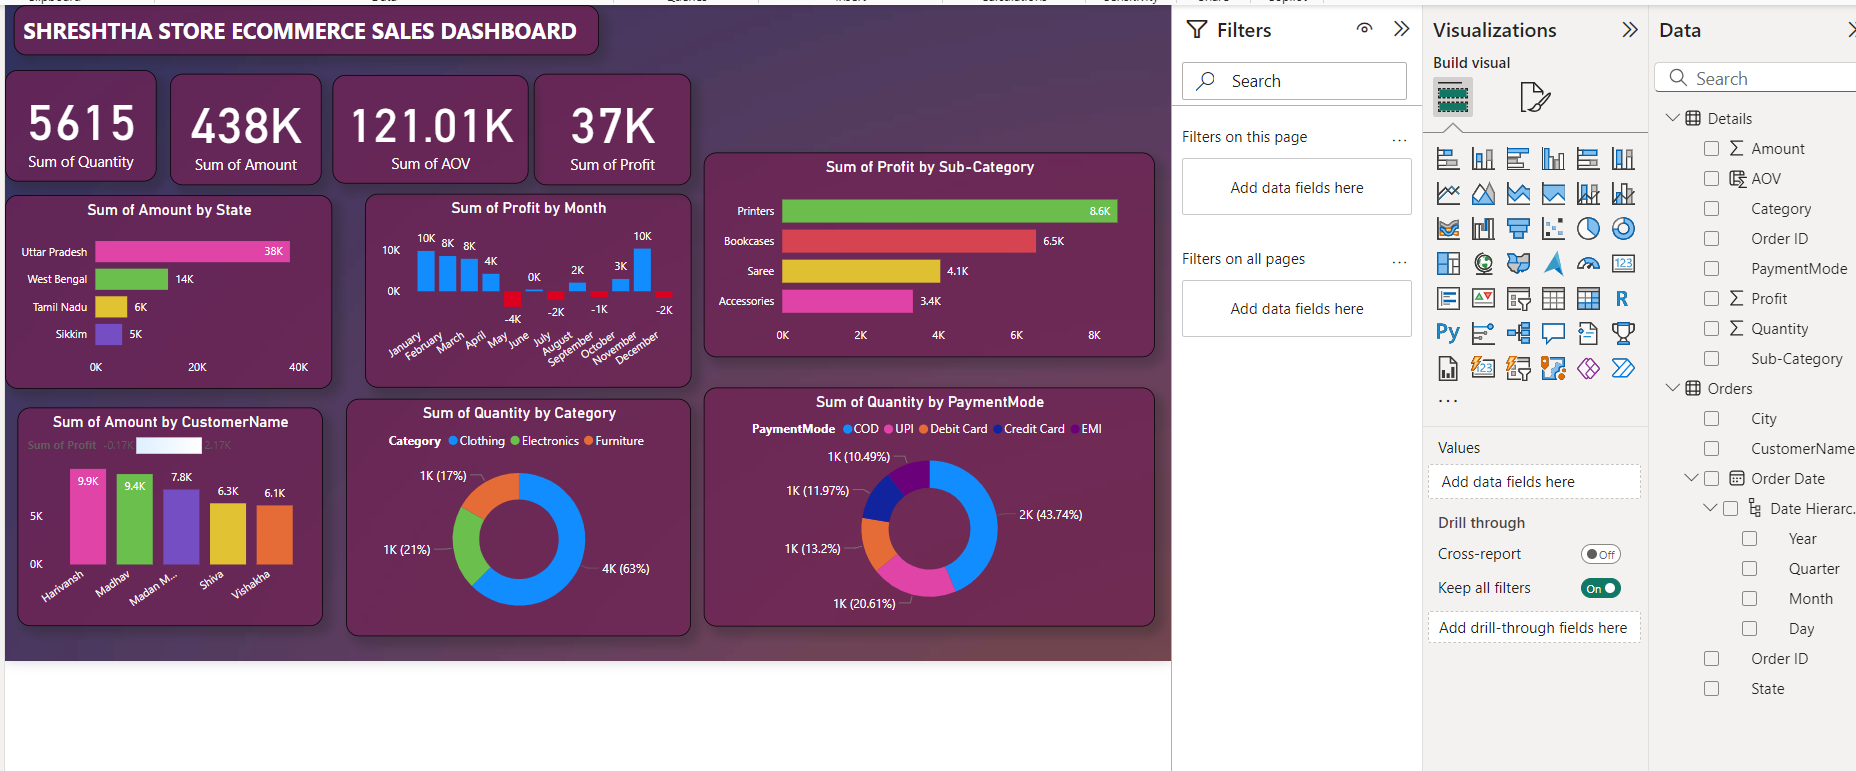

What the dashboard file says about the page in this screenshot:
{"tool":"powerbi","page":{"name":"Page 1","canvas":[1280,720],"ordinal":0},"visuals":[{"type":"textbox","box":[9.6,0,642.2,54.9],"z":0},{"type":"columnChart","fields":{"Y":["Details.Profit"],"Category":["Orders.Order Date.Variation.Date Hierarchy.Month"]},"box":[395.2,207.2,358.1,212.7],"z":1000},{"type":"barChart","fields":{"Category":["Details.Sub-Category"],"Y":["Details.Profit"]},"box":[767.1,161.9,495.4,225],"z":2000},{"type":"donutChart","fields":{"Category":["Details.Category"],"Y":["Details.Quantity"]},"box":[374.6,432.2,378.7,260.7],"z":3000},{"type":"donutChart","fields":{"Y":["Details.Quantity"],"Category":["Details.PaymentMode"]},"box":[767.1,419.9,495.4,262.1],"z":4000},{"type":"card","fields":{"Values":["Details.Amount"]},"box":[181.1,75.5,166,122.1],"z":5000},{"type":"card","fields":{"Values":["Details.Profit"]},"box":[580.4,75.5,172.9,122.1],"z":6000},{"type":"card","fields":{"Values":["Details.Quantity"]},"box":[0,71.4,166,122.1],"z":7000},{"type":"card","fields":{"Values":["Details.AOV"]},"box":[359.5,76.8,215.4,119.4],"z":8000},{"type":"barChart","fields":{"Category":["Orders.State"],"Y":["Details.Amount"]},"box":[0,208.6,359.5,212.7],"z":9000},{"type":"columnChart","fields":{"Category":["Orders.CustomerName"],"Y":["Details.Amount"]},"box":[13.7,441.9,334.8,240.1],"z":10000}]}

Visuals, with their boxes on the page's 1280x720 design canvas (x1, y1, x2, y2). These are canvas units, not pixel positions in the 1856x771 screenshot, which may show the page scaled, cropped or inside an application window:
textbox: 10/0/652/55
columnChart - Details.Profit x Orders.Order Date.Variation.Date Hierarchy.Month: 395/207/753/420
barChart - Details.Sub-Category x Details.Profit: 767/162/1262/387
donutChart - Details.Category x Details.Quantity: 375/432/753/693
donutChart - Details.Quantity x Details.PaymentMode: 767/420/1262/682
card - Details.Amount: 181/76/347/198
card - Details.Profit: 580/76/753/198
card - Details.Quantity: 0/71/166/194
card - Details.AOV: 360/77/575/196
barChart - Orders.State x Details.Amount: 0/209/360/421
columnChart - Orders.CustomerName x Details.Amount: 14/442/348/682
